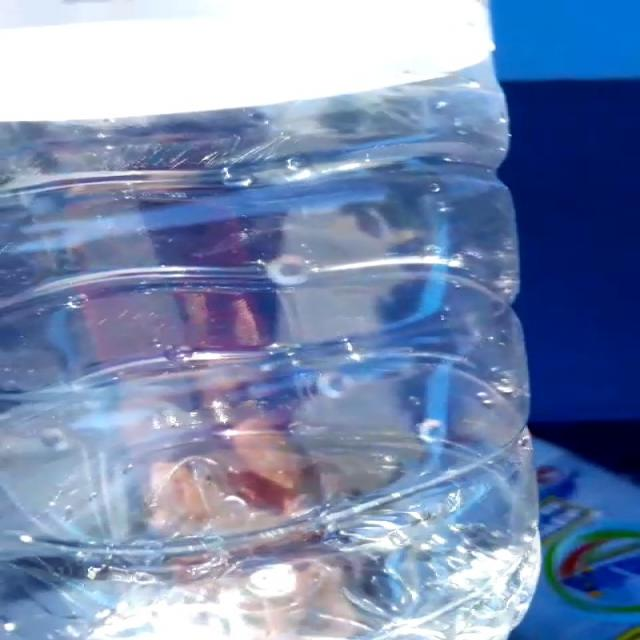plastic: (0, 0, 539, 640)
